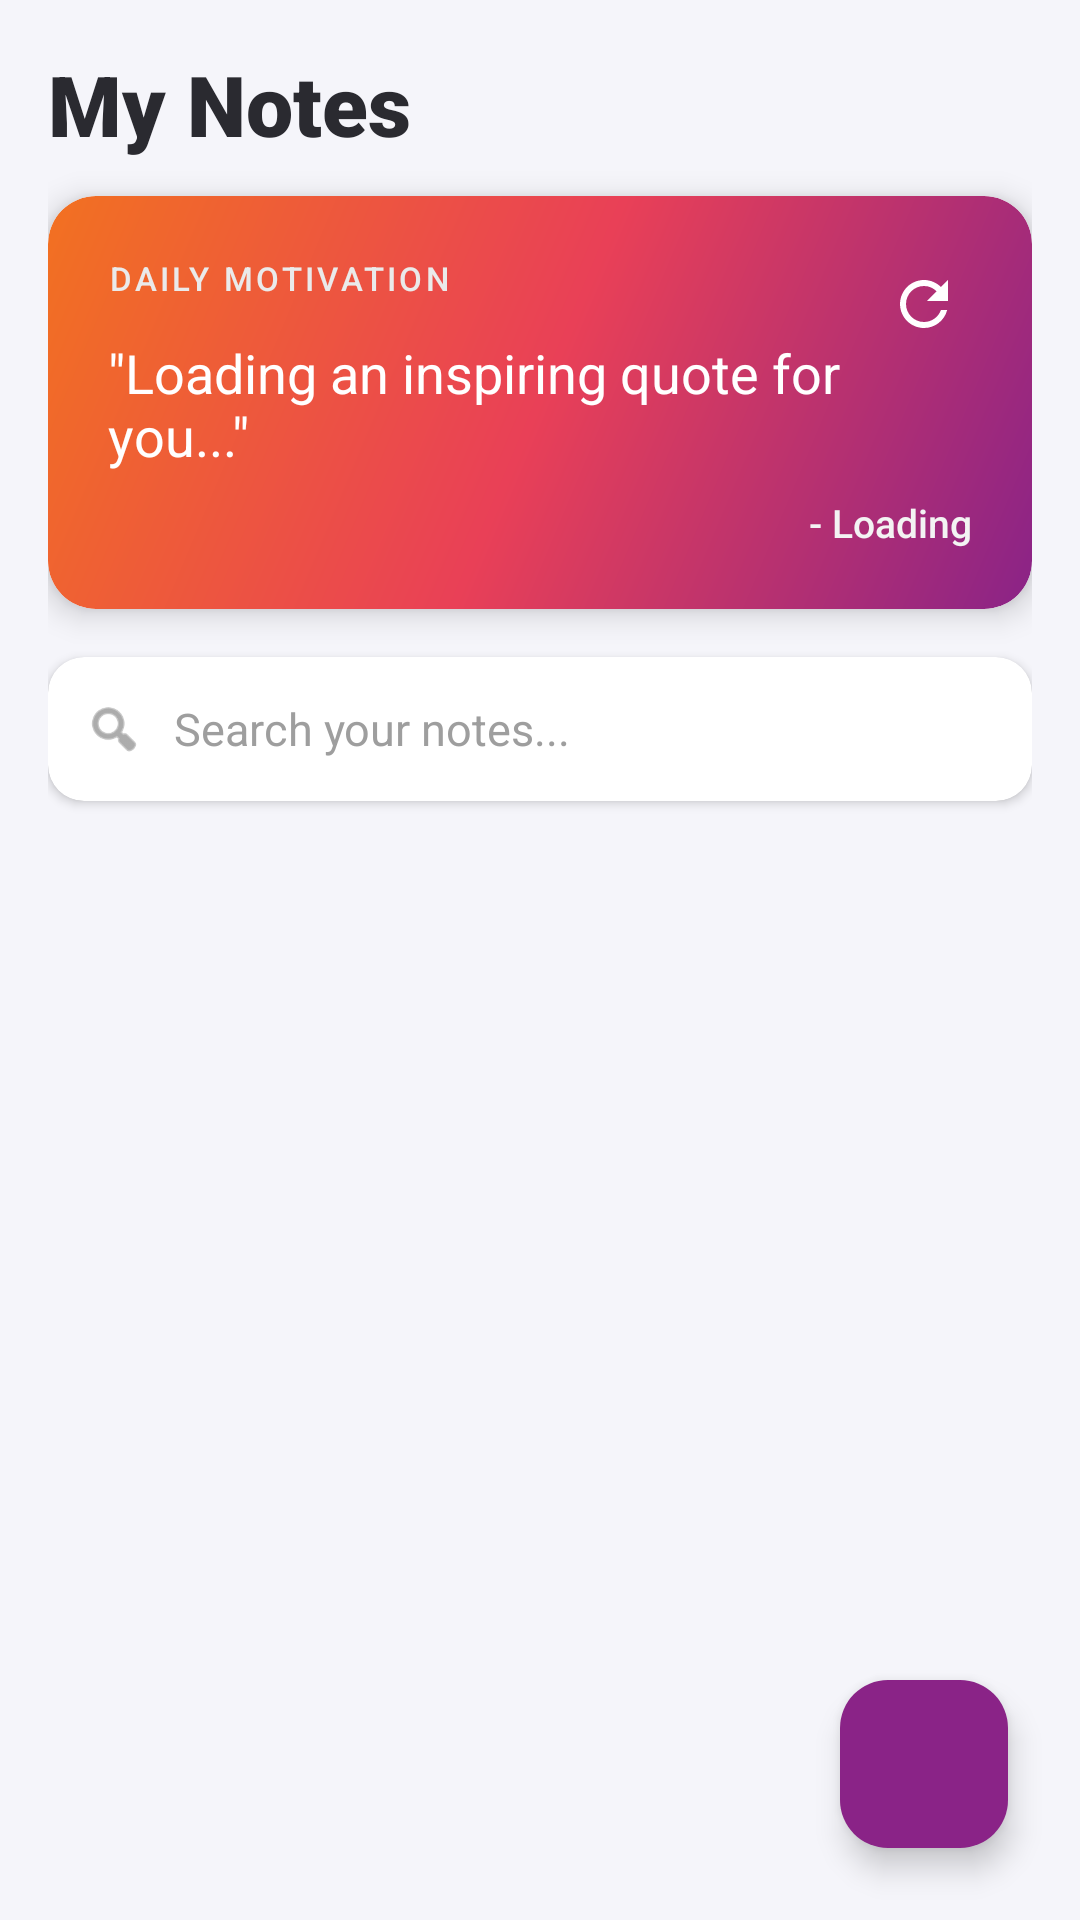

Icons on this 1080x1920 Android screen, each with its box as (x1, y1, x2, y2):
Refresh Quote: (900, 280, 948, 328)
